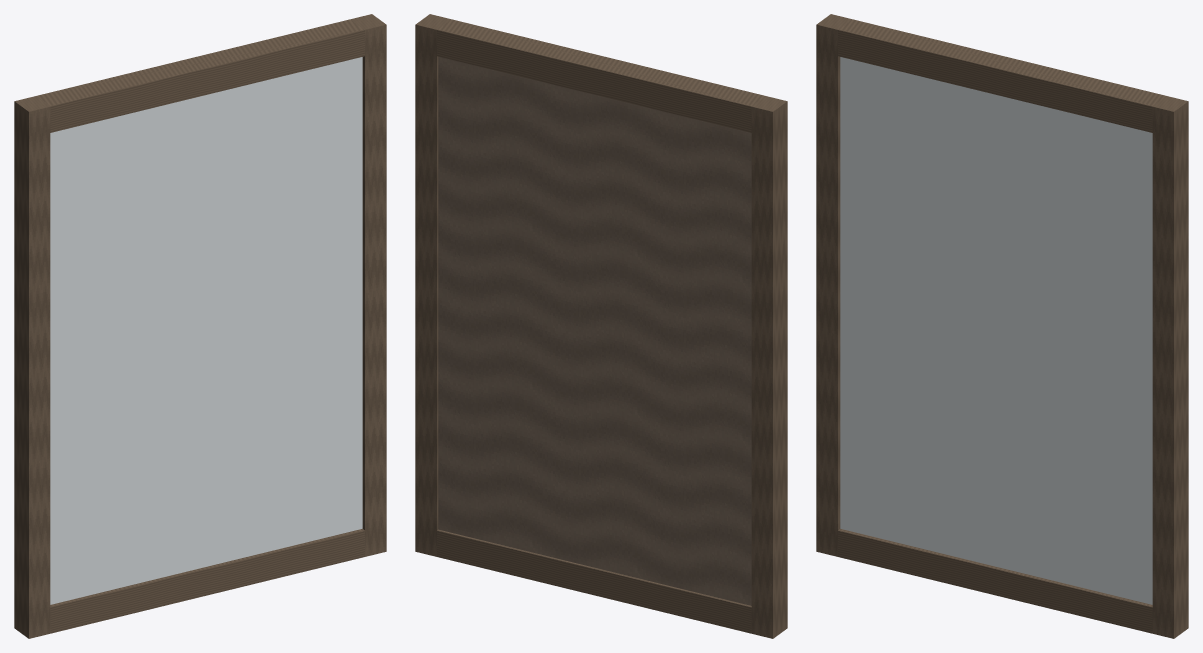
3 views of the same model, side by side, from view 1: azimuth 30°, elevation 25°; view 2: azimuth 150°, elevation 25°; view 3: azimuth 330°, elevation 25° (orthographic).
Parts seen in each view (by area): view 1: 11 glass_front, 1 frame_left, 2 frame_right, 3 frame_top, 4 frame_bottom; view 2: 5 backing_board, 1 frame_left, 3 frame_top, 2 frame_right, 4 frame_bottom; view 3: 11 glass_front, 2 frame_right, 1 frame_left, 3 frame_top, 4 frame_bottom.
Boxes of the visible parts, x1,y1,x2,y2 form: 11 glass_front: (50,57,362,604); 1 frame_left: (14,96,50,638); 2 frame_right: (351,14,386,556); 3 frame_top: (36,19,364,132); 4 frame_bottom: (50,529,364,633); 5 backing_board: (438,56,751,605); 1 frame_left: (751,96,787,638); 3 frame_top: (437,19,765,132); 2 frame_right: (415,14,450,556); 4 frame_bottom: (437,529,751,633); 11 glass_front: (840,57,1152,604); 2 frame_right: (1152,96,1188,638); 1 frame_left: (816,14,851,556); 3 frame_top: (838,19,1166,132); 4 frame_bottom: (838,529,1152,633).
Size of the model in its own units: 0.71 by 1 by 0.05.
8 materials, 2 textured.
